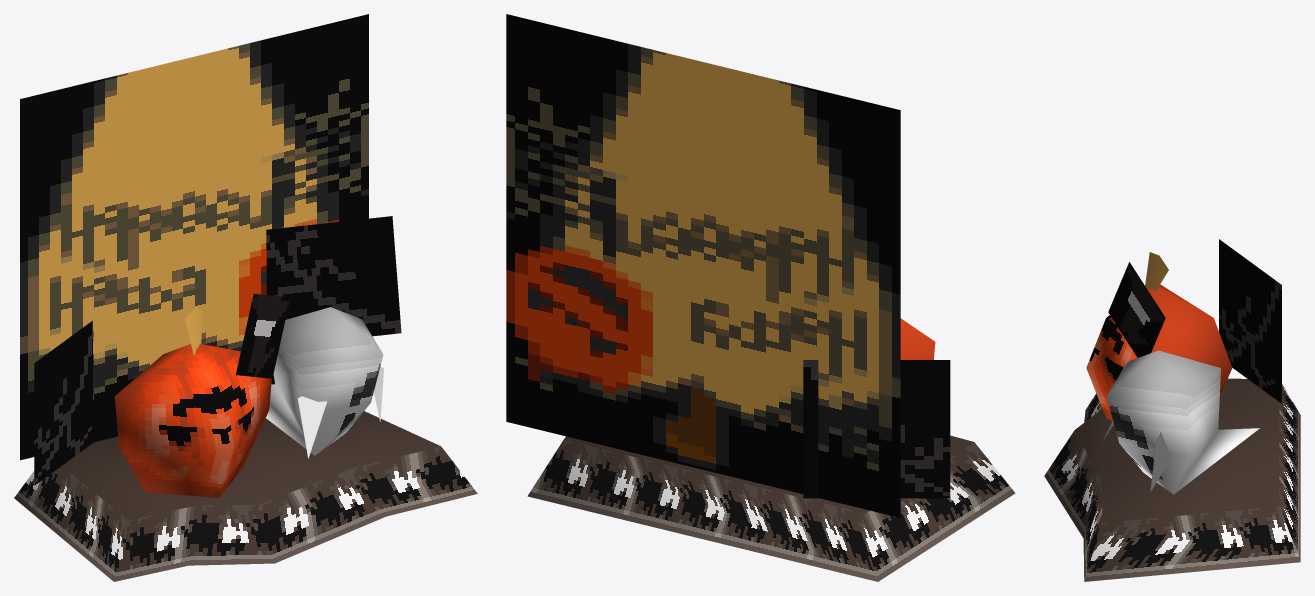
The picture shows the model from 3 angles, left to right: view 1: azimuth 30°, elevation 25°; view 2: azimuth 150°, elevation 25°; view 3: azimuth 270°, elevation 25°; orthographic projection. The views are drawn at different scales.
Visible parts, largest first — view 1: 3766kg_sh0_13; view 2: 3766kg_sh0_13; view 3: 3766kg_sh0_13.
Part boxes in pixels (x1,y1,x2,y2): 3766kg_sh0_13: [14, 14, 477, 581]; 3766kg_sh0_13: [506, 14, 1015, 581]; 3766kg_sh0_13: [1044, 239, 1300, 581].
Size of the model in its own units: 1.59 by 1.67 by 0.9751.
Materials: 4 (4 with a texture image).
